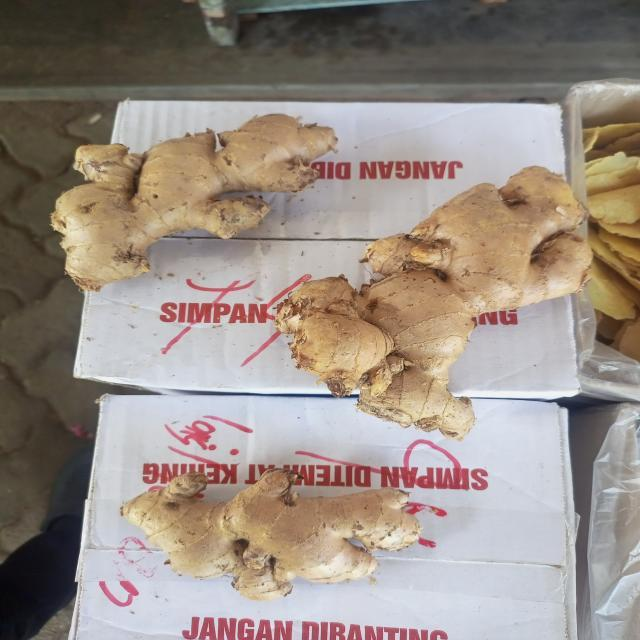ginger: (270, 166, 588, 435), (56, 113, 329, 282), (120, 472, 428, 596)
